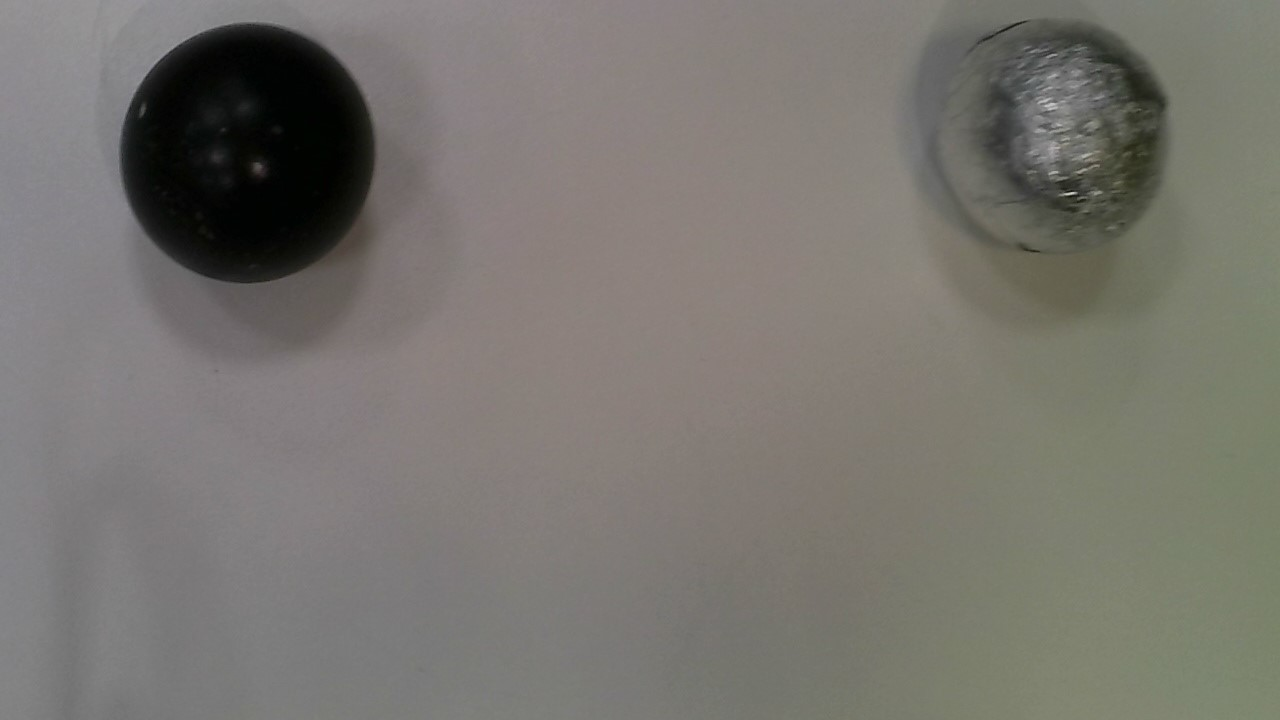black_ball: (110, 15, 388, 287)
silver_ball: (925, 12, 1185, 259)
